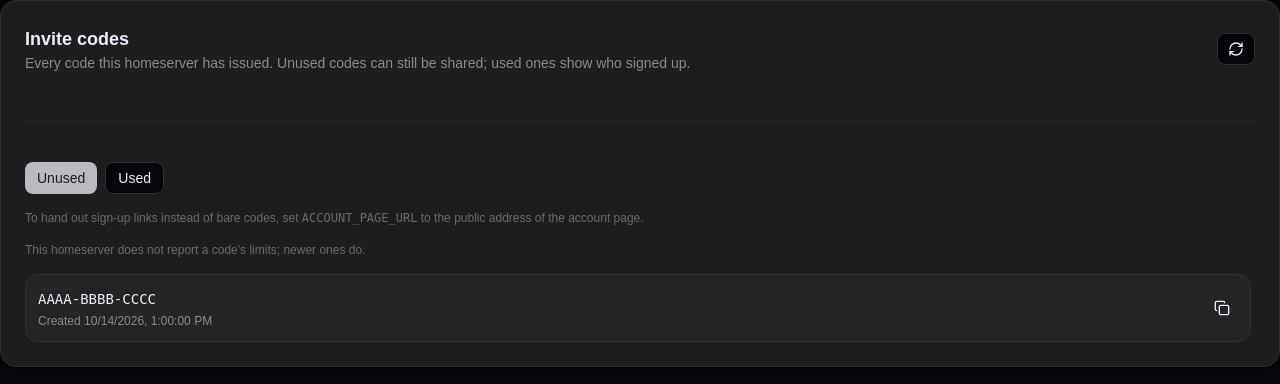
SignupTokenList › shows who used a code, with their pubky to copy
The width and height of the screenshot is (1280, 384).
Expected: the text "AAAA-BBBB-CCCC" is shown, [38, 291, 156, 307]
What coordinates should you click on to do the following:
click the button "Used"
I would click on:
 (135, 178)
Its box is [105, 162, 164, 194].
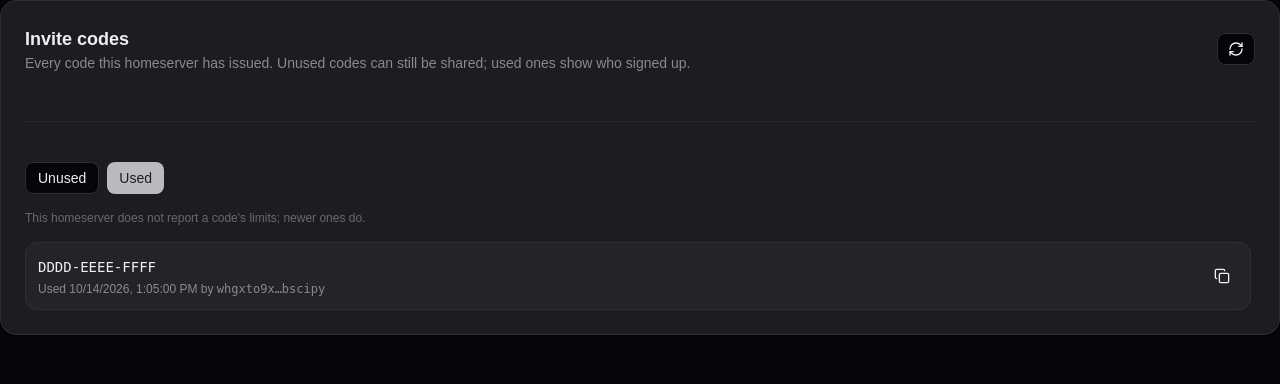
Expected: the text "DDDD-EEEE-FFFF" shows "whgxto9x…bscipy", [217, 282, 325, 296]
Expected: the button named "Copy pubky" is shown, [1206, 260, 1238, 292]
